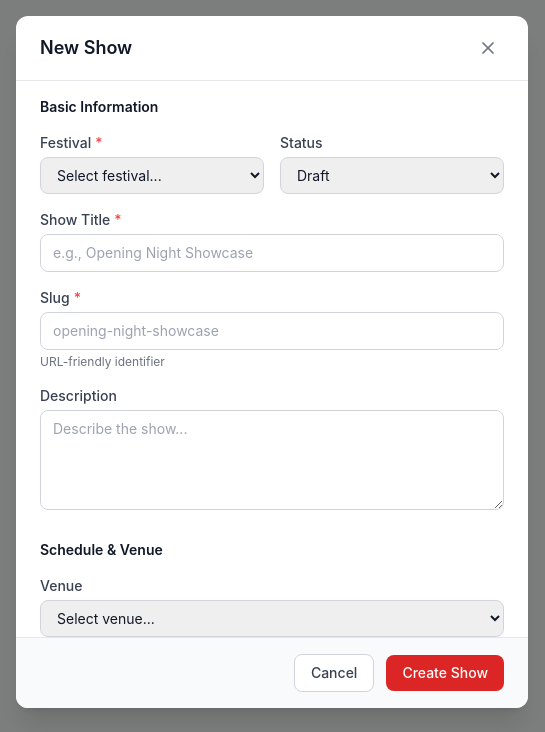
Test: ShowForm › slug auto-generation › auto-generates slug from title
This screenshot has width=545, height=732.
Type "Late Night Comedy Special" into the field with placeholder "e.g., Opening Night Showcase" at (272, 253), box [40,234,504,272]
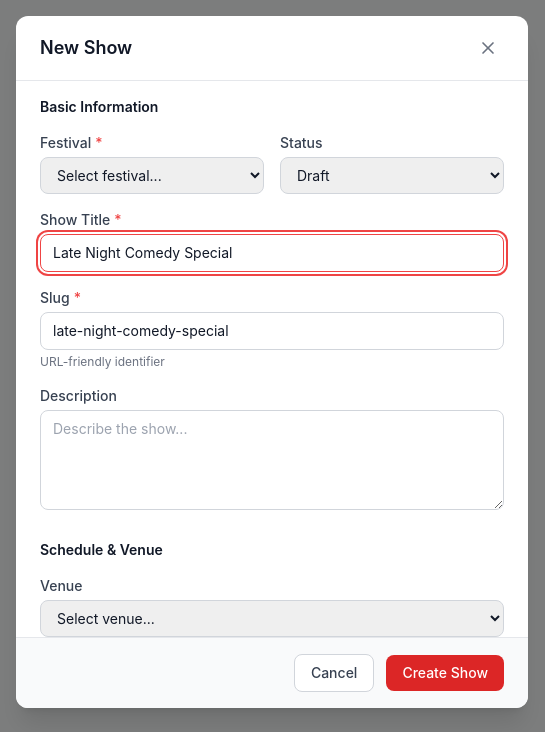
Now the field with placeholder "opening-night-showcase" holds "late-night-comedy-special", box [40,312,504,350]
